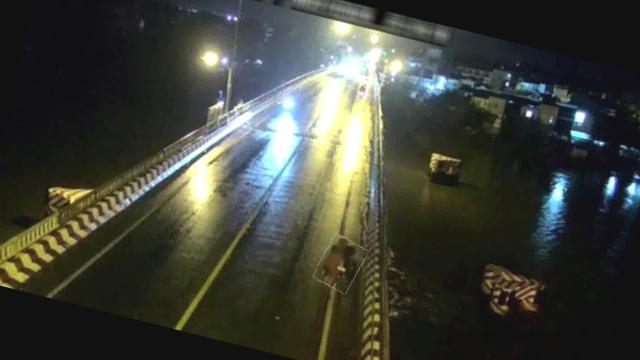Bike: (313, 232, 368, 294)
